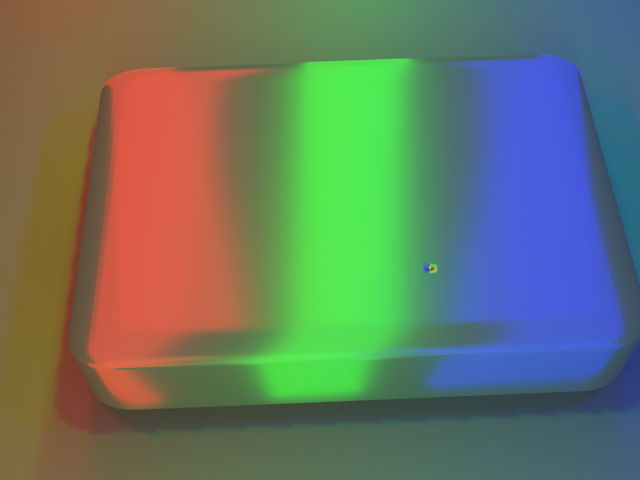dent: (423, 254, 458, 292)
